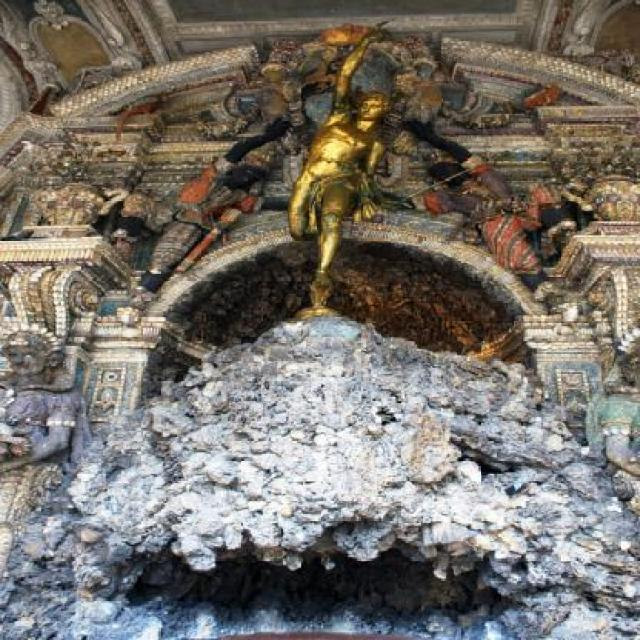Person: (383, 112, 572, 296), (100, 122, 285, 298), (287, 25, 387, 310)
